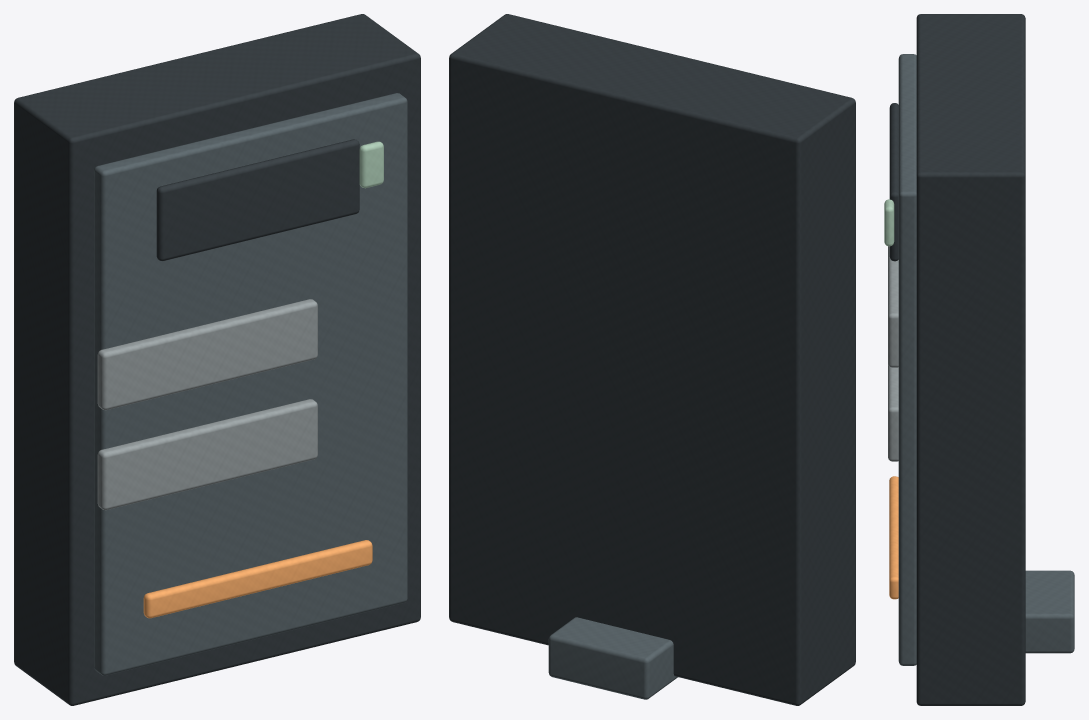
The model's file is WallPatchPanel.glb.
3 renders of one model, left to right at view 1: azimuth 30°, elevation 25°; view 2: azimuth 150°, elevation 25°; view 3: azimuth 270°, elevation 25°, orthographic. The views are drawn at different scales.
Parts seen in each view (by area): view 1: WallPatchPanel_Mesh; view 2: WallPatchPanel_Mesh; view 3: WallPatchPanel_Mesh.
Boxes of the visible parts, x1=… form: WallPatchPanel_Mesh: x1=14, y1=14, x2=420, y2=705; WallPatchPanel_Mesh: x1=449, y1=14, x2=855, y2=705; WallPatchPanel_Mesh: x1=884, y1=14, x2=1074, y2=705.
Size of the model in its own units: 0.7 by 1.09 by 0.349.
Materials: 5 (5 with a texture image).
